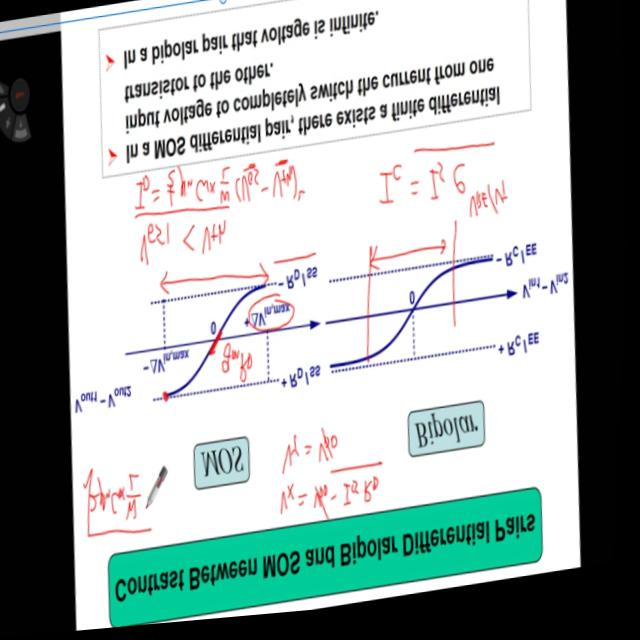panseo: (101, 135, 332, 298), (356, 114, 525, 259), (266, 403, 399, 542), (75, 441, 186, 565), (212, 339, 272, 393)
